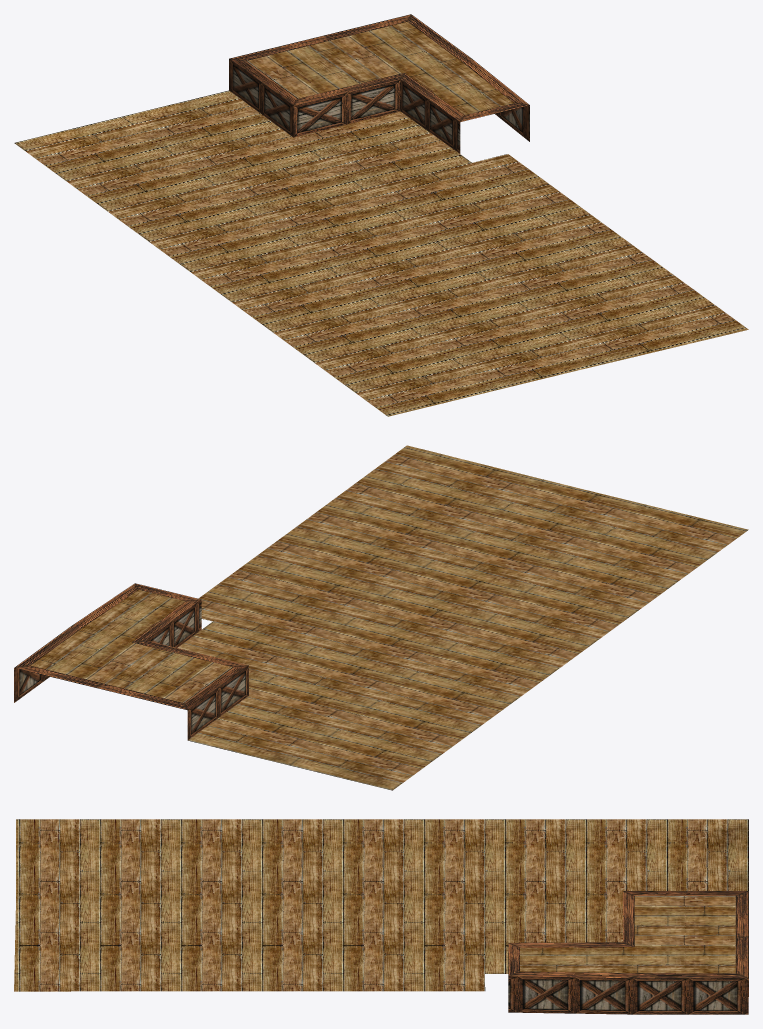
File: LAKETOWN_WAREHOUSE3_PS_WH3_FLOORPAD99484__GX.fbx
The picture shows the model from 3 angles, top to bottom: view 1: azimuth 30°, elevation 25°; view 2: azimuth 150°, elevation 25°; view 3: azimuth 270°, elevation 25°; orthographic projection. The views are drawn at different scales.
Visible parts, largest first — view 1: LAKETOWN_WAREHOUSE3_PS_WH3_FLOORPAD99484__GX; view 2: LAKETOWN_WAREHOUSE3_PS_WH3_FLOORPAD99484__GX; view 3: LAKETOWN_WAREHOUSE3_PS_WH3_FLOORPAD99484__GX.
Boxes of the visible parts, box(x1,y1,x2,y2) form: LAKETOWN_WAREHOUSE3_PS_WH3_FLOORPAD99484__GX: box(14, 14, 748, 416); LAKETOWN_WAREHOUSE3_PS_WH3_FLOORPAD99484__GX: box(14, 445, 748, 790); LAKETOWN_WAREHOUSE3_PS_WH3_FLOORPAD99484__GX: box(14, 819, 748, 1014).
Size of the model in its own units: 111055 by 9908 by 181575.
Materials: 4 (4 with a texture image).
